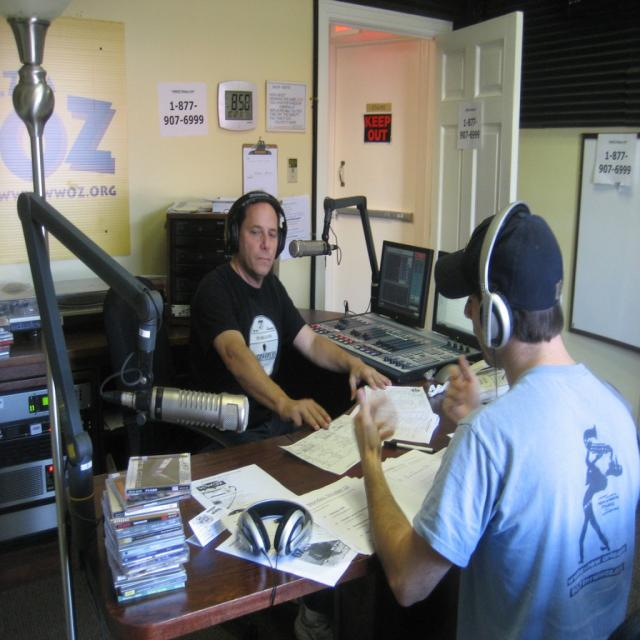desk: (92, 376, 488, 640)
laptop: (310, 239, 486, 383)
person: (316, 199, 638, 638), (188, 190, 388, 436)
